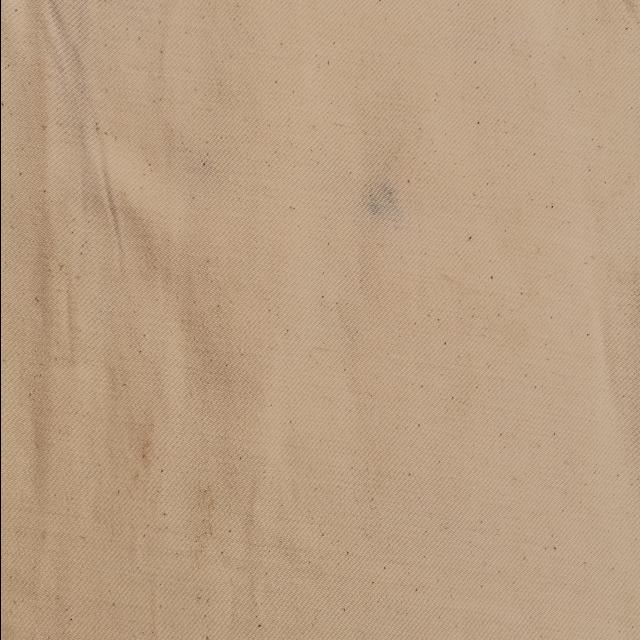taaaches: (358, 167, 402, 233), (190, 474, 218, 550), (133, 406, 157, 478)
